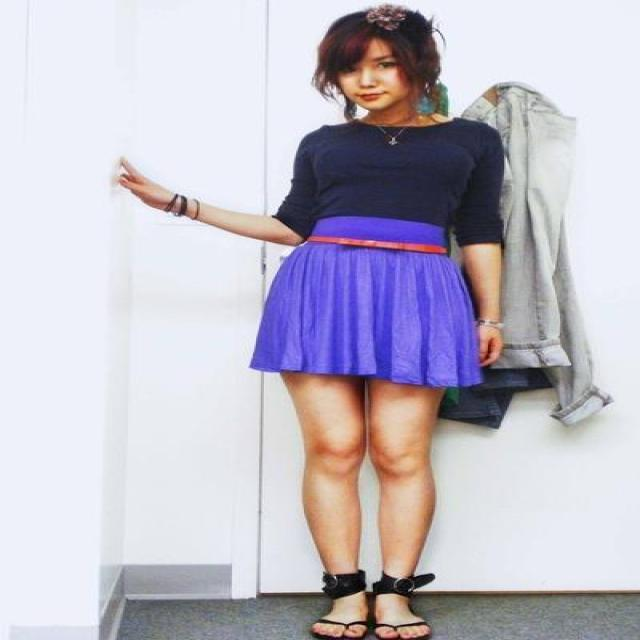shirt: (272, 115, 507, 242)
shoe: (314, 570, 428, 639)
skirt: (250, 217, 490, 387)
